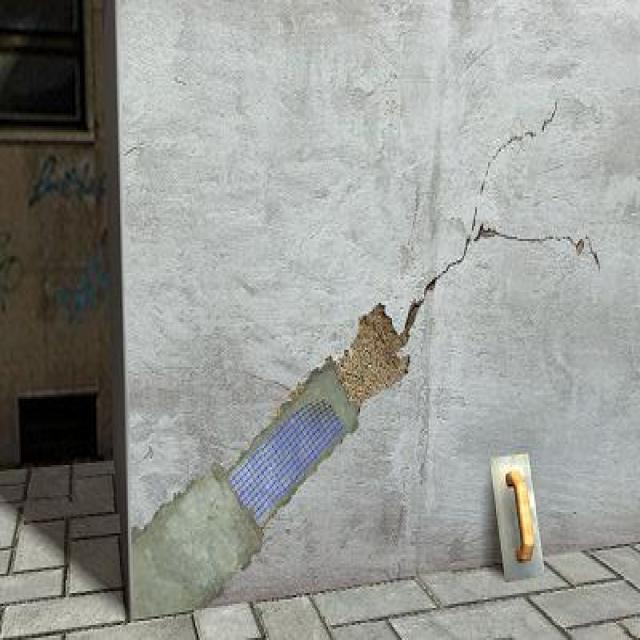crack: (402, 201, 481, 339), (476, 225, 603, 270), (477, 128, 537, 197), (541, 99, 561, 130)
